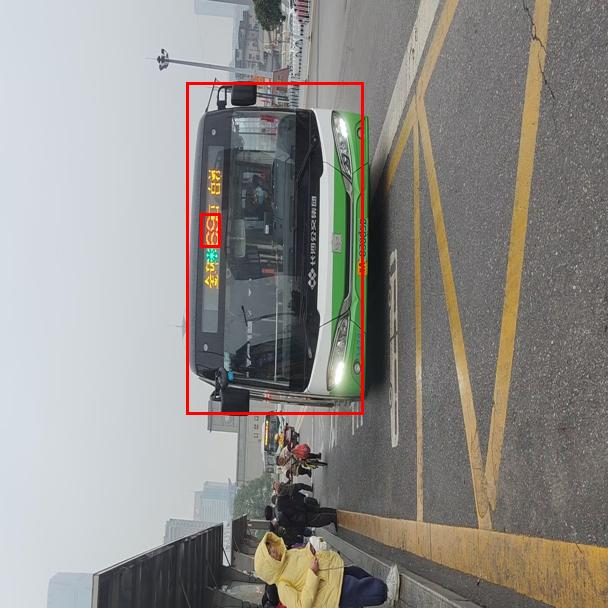bus: (186, 82, 363, 414)
screen: (200, 213, 220, 247)
